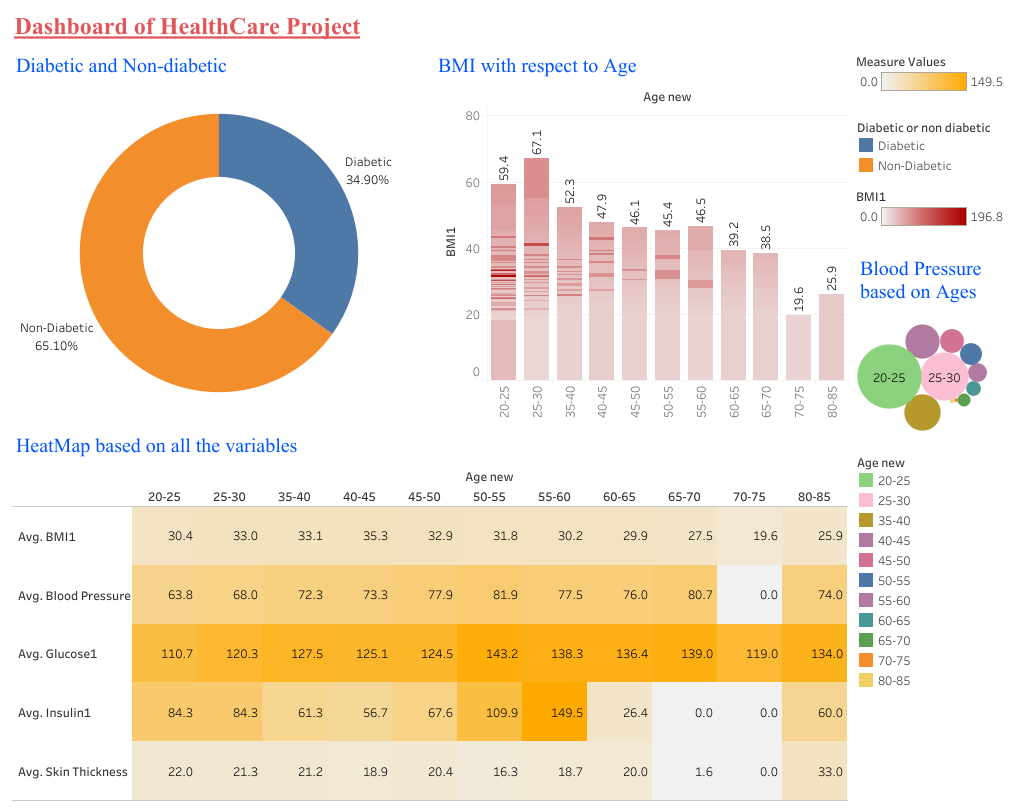

Layout of this report page (visuals, bound fields, positions):
{"tool":"tableau","page":{"name":"Health-Care-Project","canvas":[1000,1000],"units":"permille","ordinal":0},"visuals":[{"type":"title","box":[7.8,8.9,984.3,39]},{"type":"worksheet","title":"Pie-Chart","mark":"Pie","rows":["Number of Records","Number of Records"],"box":[7.8,47.9,413.7,471.5]},{"type":"worksheet","title":"BMI vs Age","mark":"Bar","rows":["BMI"],"cols":["Calculation_79938895863570433"],"box":[421.6,47.9,413.7,471.5]},{"type":"legend","title":"HeatMap ","param":"[federated.13xtmfo0yp9jc813bo58r11m1r5e].[Multiple Values]","box":[835.3,47.9,156.9,72.5]},{"type":"legend","title":"Pie-Chart","param":"[federated.13xtmfo0yp9jc813bo58r11m1r5e].[none:Calculation_1222164350539055104:n","box":[835.3,120.4,156.9,73.6]},{"type":"legend","title":"BMI vs Age","param":"[federated.13xtmfo0yp9jc813bo58r11m1r5e].[sum:BMI:qk]","box":[835.3,194,156.9,72.5]},{"type":"worksheet","title":"BP Report","mark":"Circle","box":[835.3,266.5,156.9,246.4]},{"type":"legend","title":"BP Report","param":"[federated.13xtmfo0yp9jc813bo58r11m1r5e].[none:Calculation_79938895863570433:nk]","box":[835.3,512.8,156.9,274.2]},{"type":"worksheet","title":"HeatMap ","mark":"Square","cols":["Calculation_79938895863570433"],"box":[7.8,519.5,827.5,471.6]}]}

Visuals, with their boxes on the dashboard's canvas, which has no fixed pixel size, in thousandths of its width and height (x1, y1, x2, y2). These are canvas units, not pixel positions in the 1019x812 screenshot, which may show the page scaled, cropped or inside an application window:
title: box=[8, 9, 992, 48]
"Pie-Chart" worksheet (Pie marks): box=[8, 48, 422, 519]
"BMI vs Age" worksheet (Bar marks): box=[422, 48, 835, 519]
"HeatMap " legend: box=[835, 48, 992, 120]
"Pie-Chart" legend: box=[835, 120, 992, 194]
"BMI vs Age" legend: box=[835, 194, 992, 266]
"BP Report" worksheet (Circle marks): box=[835, 266, 992, 513]
"BP Report" legend: box=[835, 513, 992, 787]
"HeatMap " worksheet (Square marks): box=[8, 520, 835, 991]
